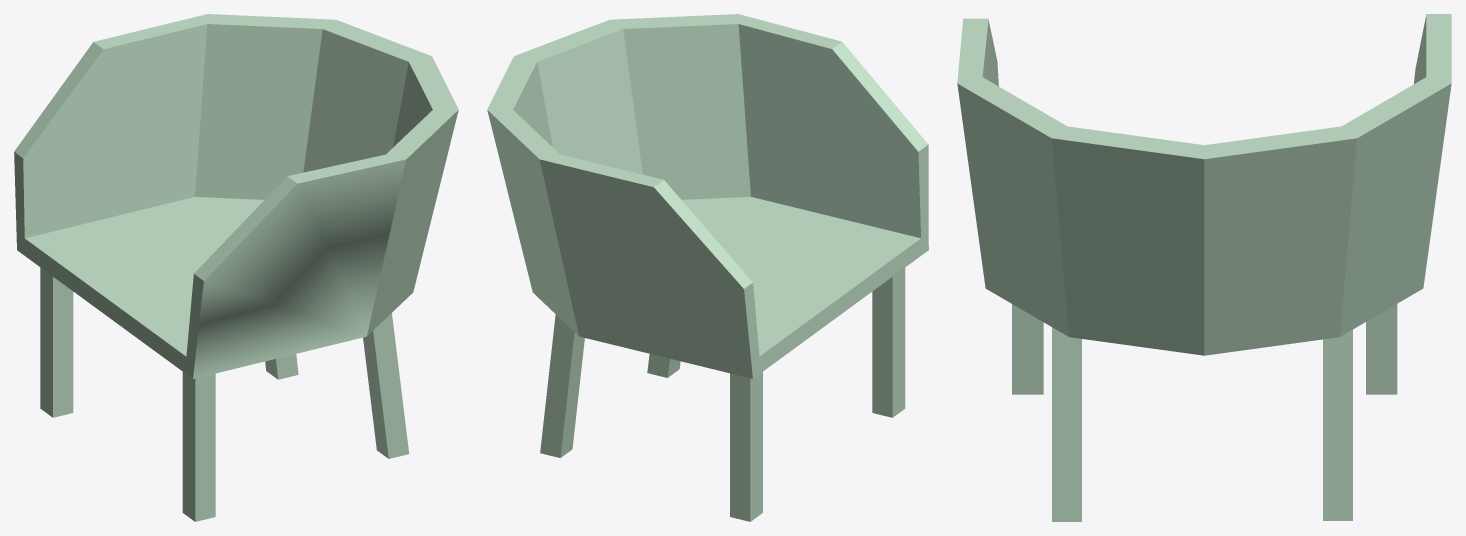
The model's file is chairTextured.fbx.
3 renders of one model, left to right at view 1: azimuth 30°, elevation 25°; view 2: azimuth 150°, elevation 25°; view 3: azimuth 270°, elevation 25°, orthographic. The views are drawn at different scales.
Visible parts, largest first — view 1: pCylinder10, pCube29, pCube30, pCube31, pCube32; view 2: pCylinder10, pCube30, pCube29, pCube32, pCube31; view 3: pCylinder10, pCube31, pCube32, pCube30, pCube29.
Part boxes in pixels (x1,y1,x2,y2): pCylinder10: [14, 14, 458, 378]; pCube29: [182, 372, 215, 521]; pCube30: [40, 267, 73, 417]; pCube31: [363, 313, 409, 458]; pCube32: [265, 354, 298, 379]; pCylinder10: [487, 14, 928, 378]; pCube30: [730, 372, 762, 521]; pCube29: [872, 268, 905, 417]; pCube32: [540, 314, 584, 457]; pCube31: [647, 354, 680, 377]; pCylinder10: [957, 14, 1451, 355]; pCube31: [1052, 327, 1081, 521]; pCube32: [1323, 329, 1352, 520]; pCube30: [1366, 304, 1397, 394]; pCube29: [1012, 304, 1043, 394].
Bounding box in the file's own units: 15.7 × 15.26 × 16.52.
